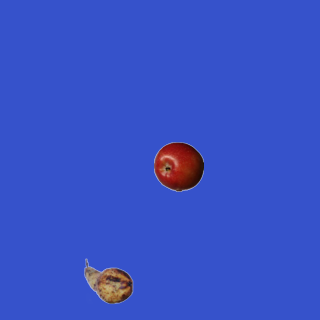Apple Braeburn: (153, 141, 203, 191)
Pear Abate: (83, 256, 133, 306)
